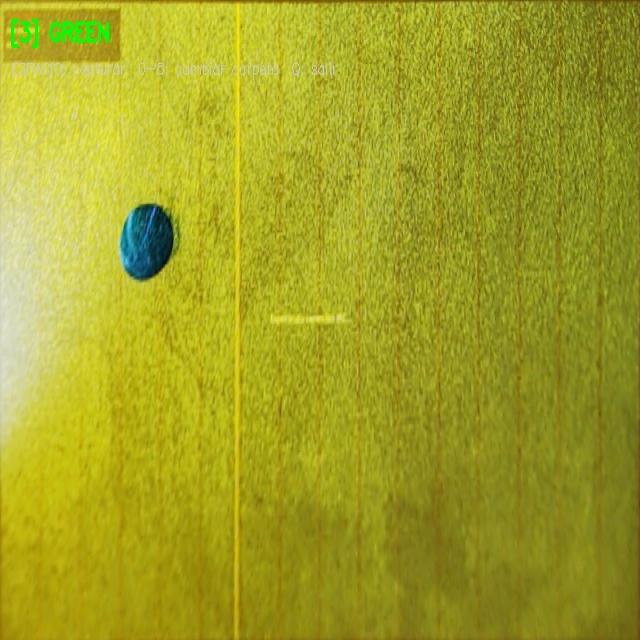green: (119, 206, 172, 280)
